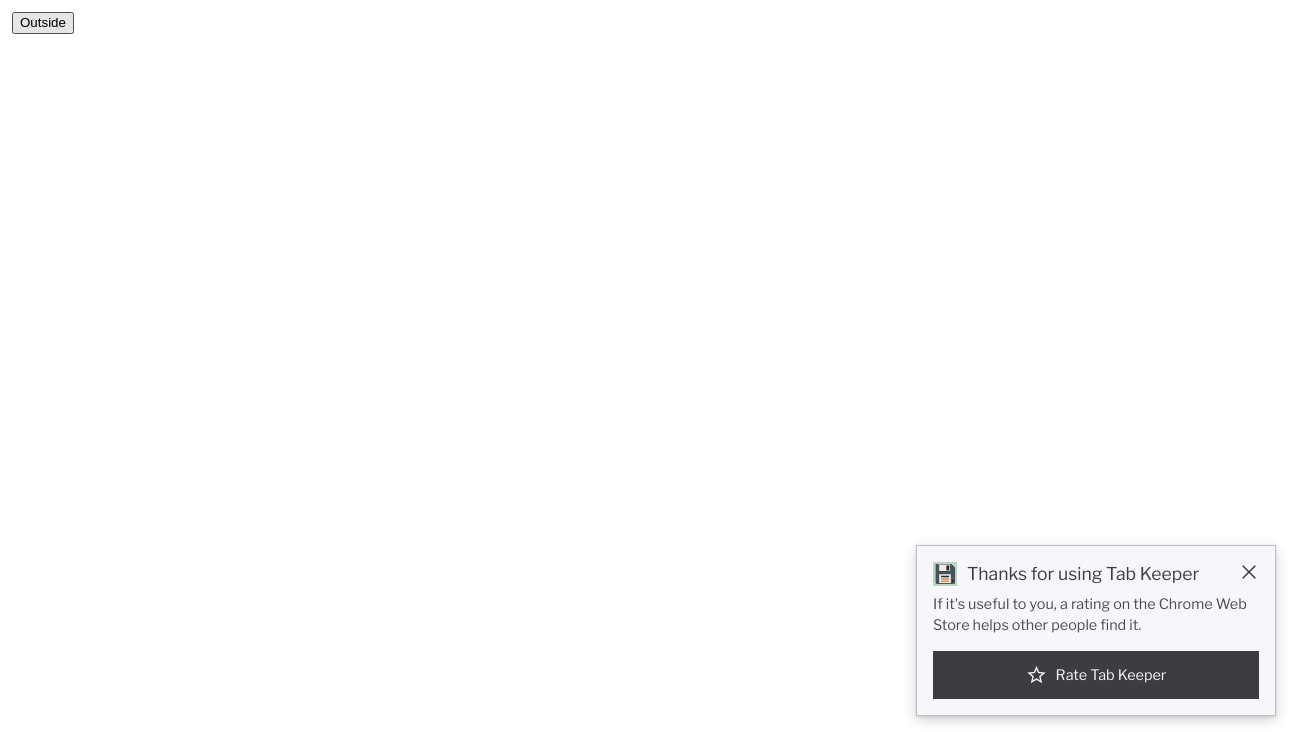
Test: the controls › ✕ is Not now: it closes the card and remembers a close
Click the button named "Not now" at (1249, 572), box [1237,558,1261,586]
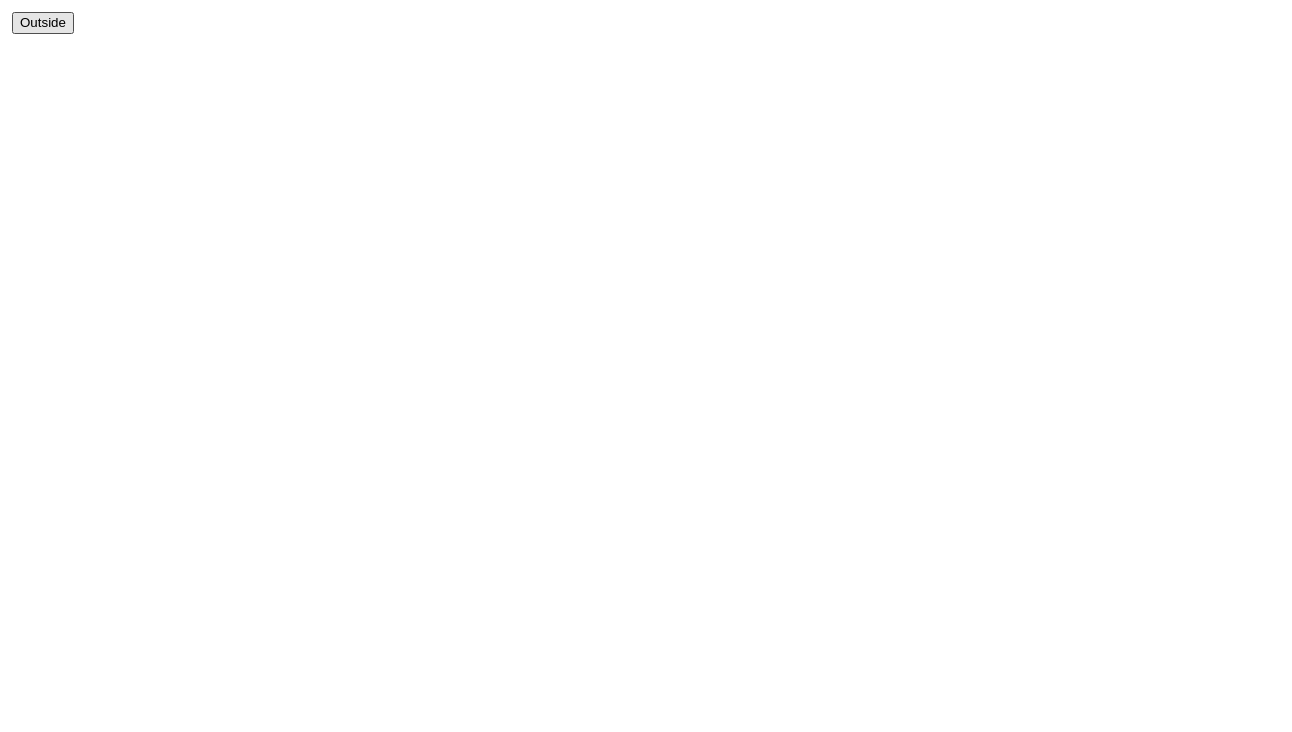
Now the element with test id "review-card" is gone
